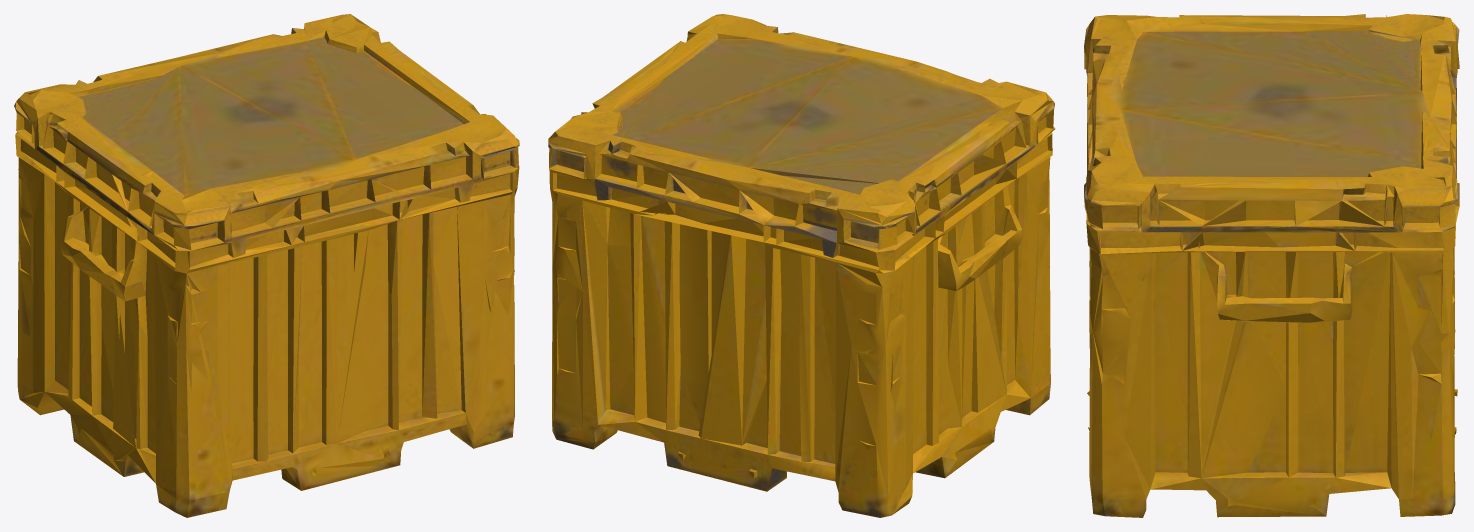
File: bac_plastique.glb
3 views of the same model, side by side, from view 1: azimuth 30°, elevation 25°; view 2: azimuth 150°, elevation 25°; view 3: azimuth 270°, elevation 25° (orthographic). The views are drawn at different scales.
Bounding box in the file's own units: 1.9 × 1.53 × 1.58.
1 material, 1 textured.
